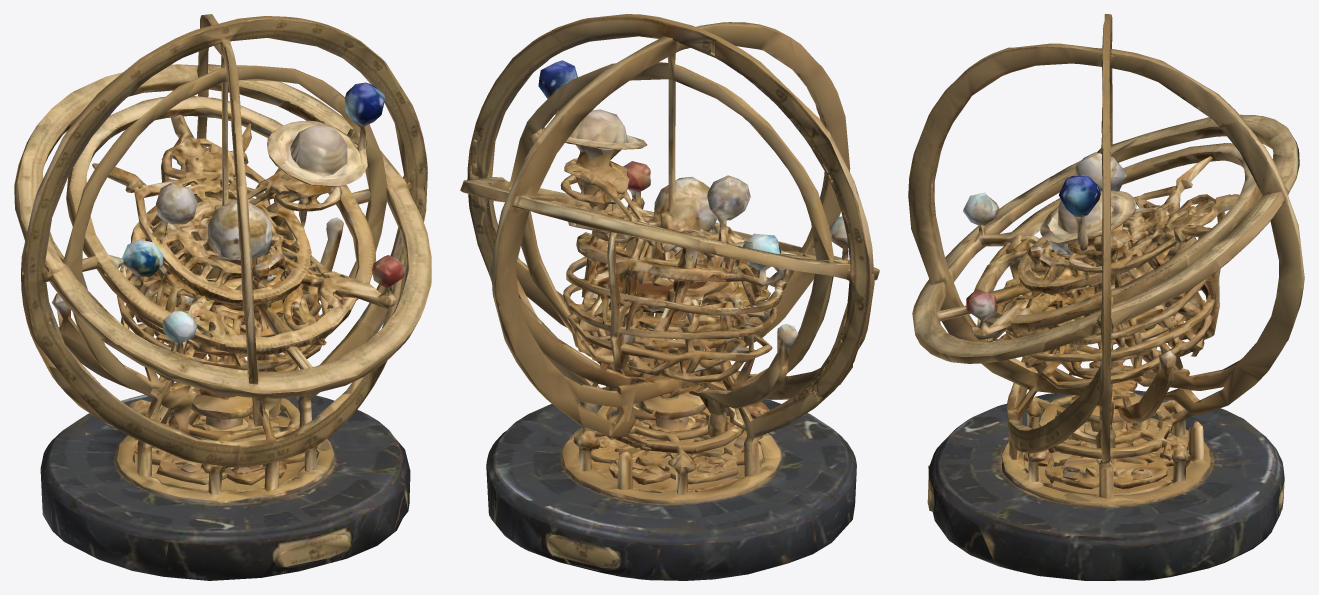
Rendered from kinetic-orrery.glb.
The picture shows the model from 3 angles, left to right: view 1: azimuth 30°, elevation 25°; view 2: azimuth 150°, elevation 25°; view 3: azimuth 270°, elevation 25°; orthographic projection. The views are drawn at different scales.
Visible parts, largest first — view 1: geometry_0; view 2: geometry_0; view 3: geometry_0.
Part boxes in pixels (x1=…): geometry_0: x1=14, y1=14, x2=431, y2=580; geometry_0: x1=460, y1=14, x2=879, y2=580; geometry_0: x1=908, y1=14, x2=1304, y2=580.
Size of the model in its own units: 0.3672 by 0.4193 by 0.3205.
1 material, 1 textured.
